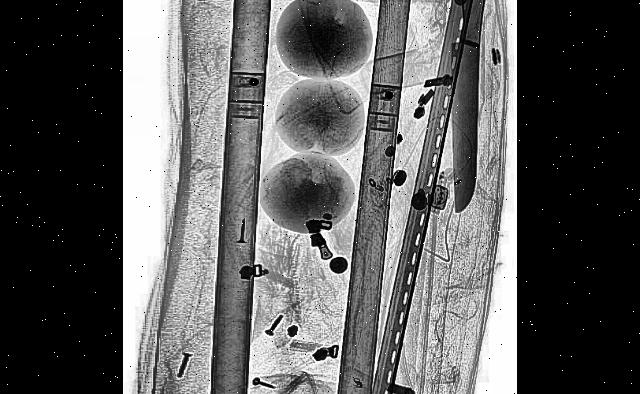Knife: (443, 0, 487, 212)
